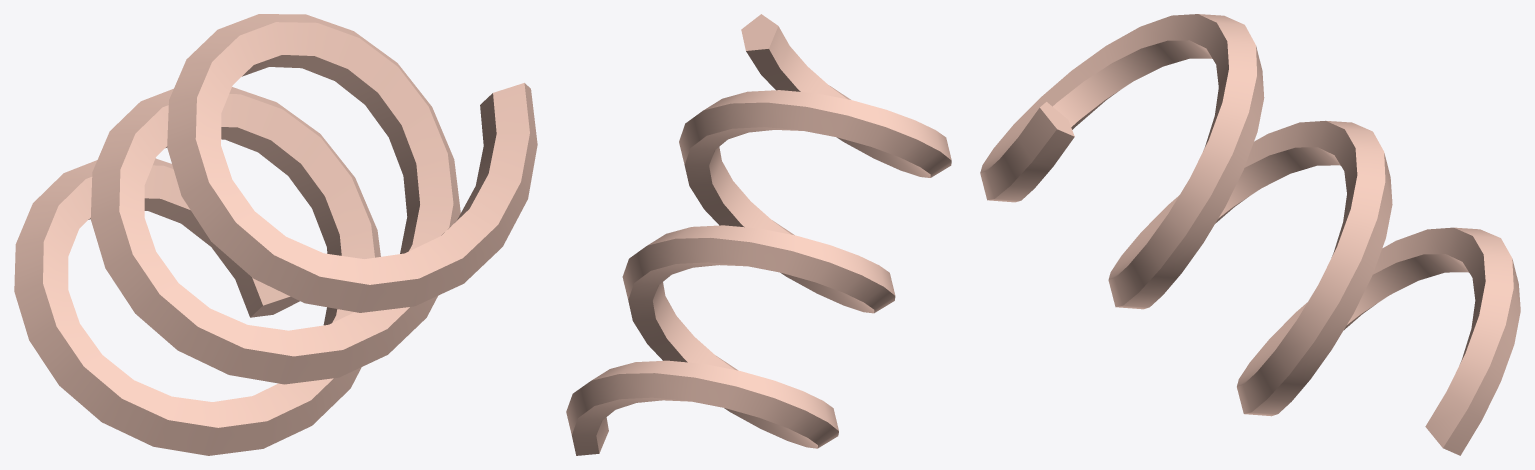
File: copper wire.fbx
3 views of the same model, side by side, from view 1: azimuth 30°, elevation 25°; view 2: azimuth 150°, elevation 25°; view 3: azimuth 270°, elevation 25° (orthographic). The views are drawn at different scales.
Visible parts, largest first — view 1: copper_wire; view 2: copper_wire; view 3: copper_wire.
Part boxes in pixels (x1,y1,x2,y2): copper_wire: (14, 14, 537, 455); copper_wire: (566, 14, 951, 455); copper_wire: (980, 14, 1520, 455).
Bounding box in the file's own units: 2.59 × 3.52 × 4.66.
1 material, 1 textured.
